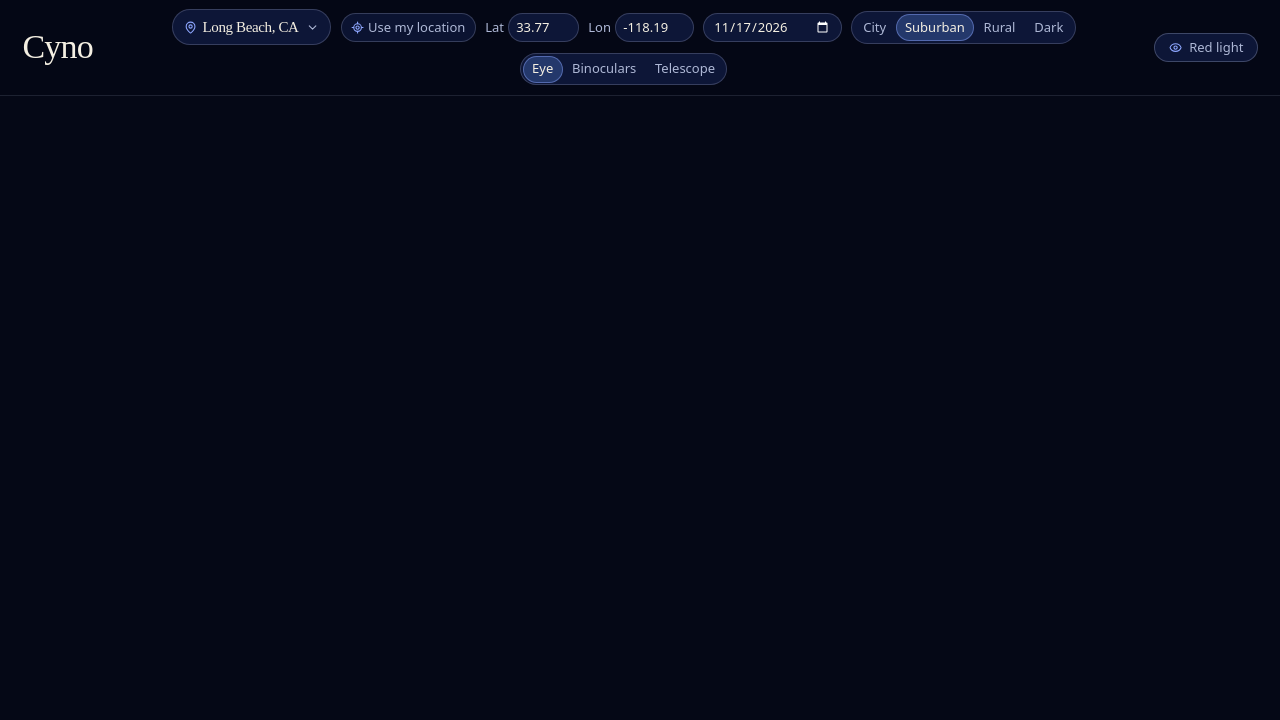
Scenario: ControlsBar › geolocation › clears a location error after choosing a preset
The image size is (1280, 720).
Click the button "Use my location".
click(408, 27)  # box [341, 13, 476, 42]
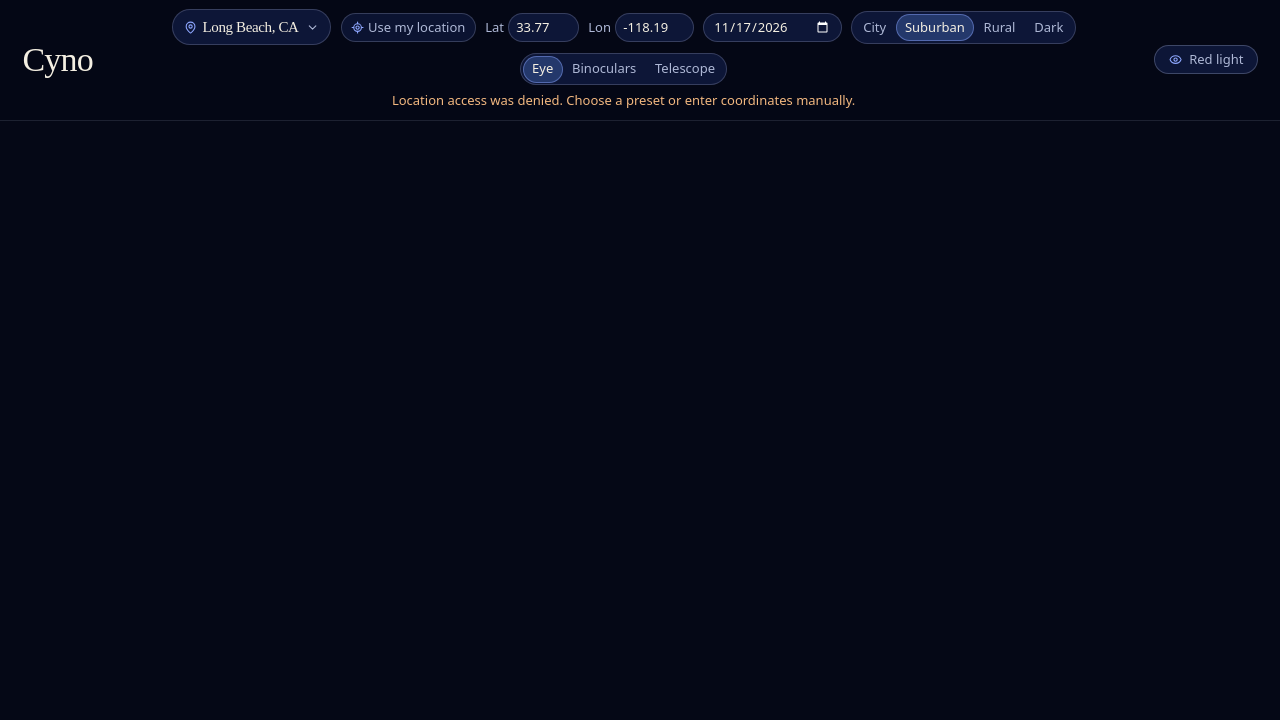
Now the text "Location access was denied. Choose a preset or enter coordinates manually." is shown, box [392, 91, 855, 109]
Click the button with aria-label "Place preset".
click(252, 27)  # box [172, 9, 332, 45]
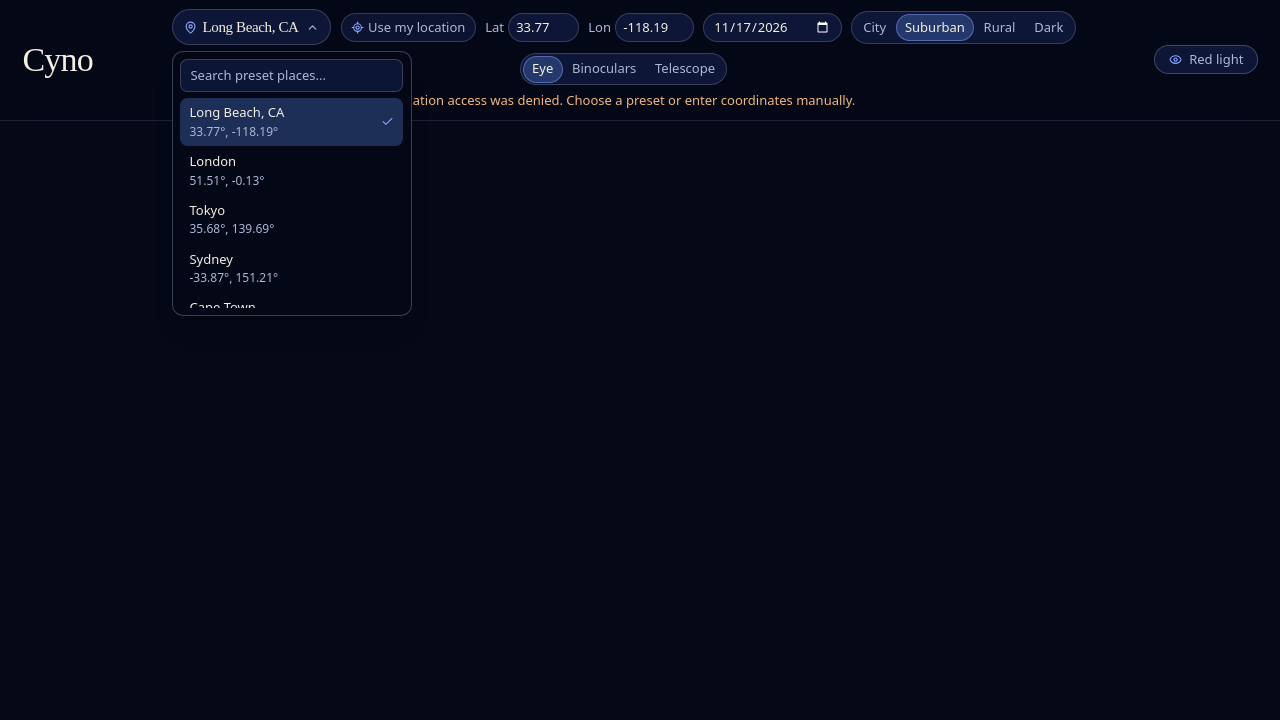
Click the option "Tokyo 35.68°, 139.69°".
click(232, 219)  # box [190, 201, 274, 237]
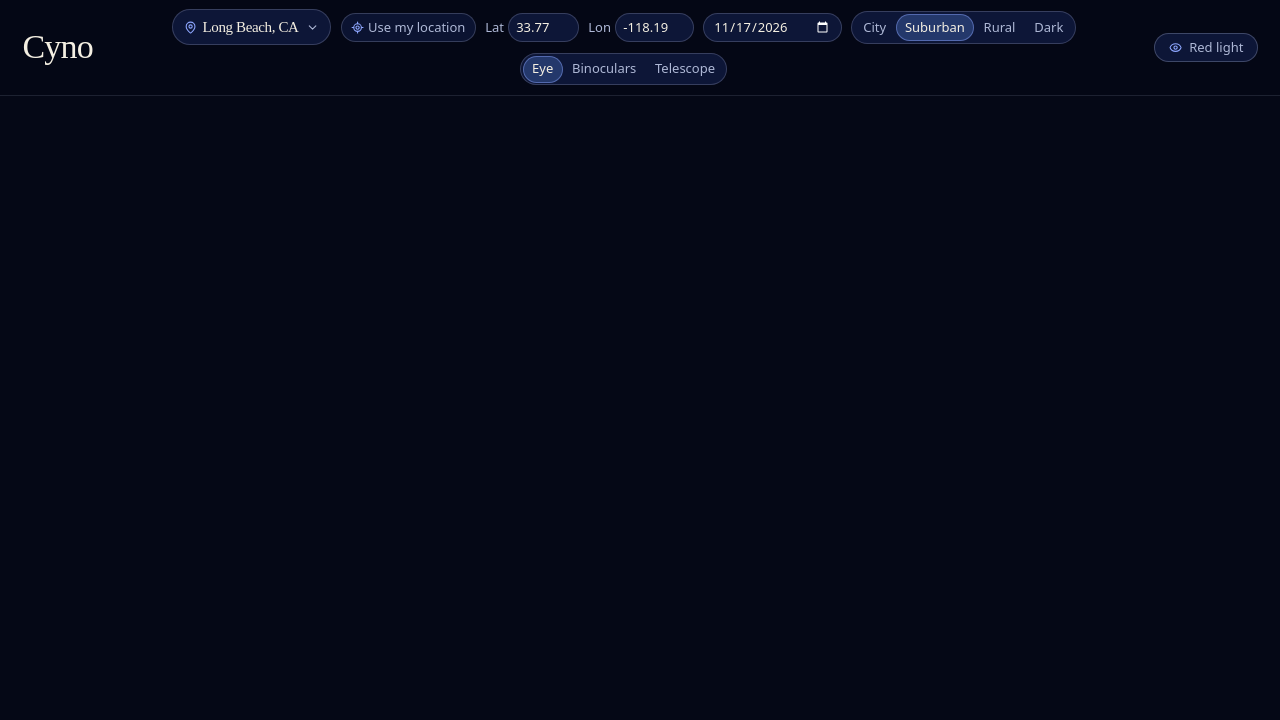
Now the text "Location access was denied" is gone
